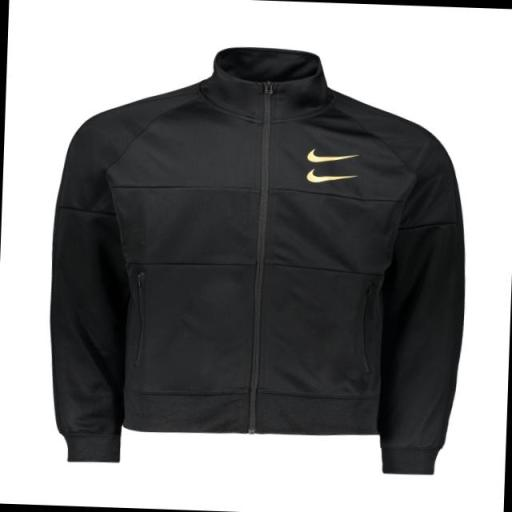Nike: (302, 170, 360, 184)
